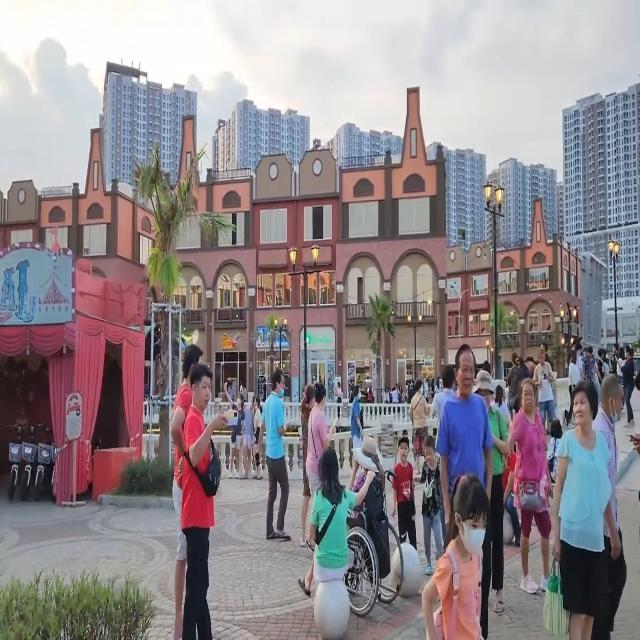hairnet: (606, 384, 623, 424), (273, 372, 285, 396)
